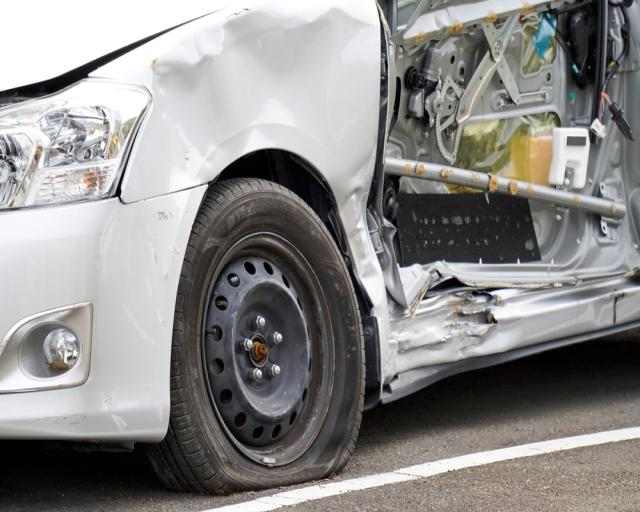crack: (453, 286, 499, 326)
dent: (131, 7, 385, 301), (402, 316, 522, 357)
scratch: (56, 386, 146, 431), (144, 210, 186, 287)
tire flat: (148, 178, 366, 495)
